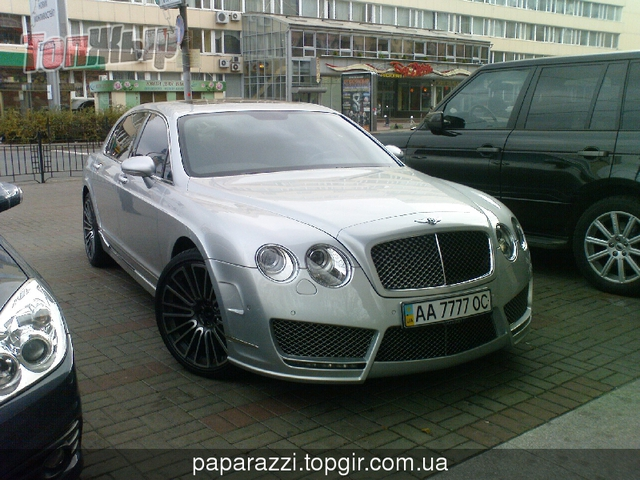car: (81, 99, 534, 384)
plate: (403, 289, 491, 327)
